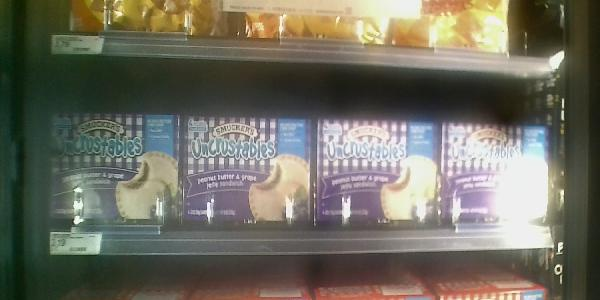icecream: (47, 105, 183, 243), (183, 113, 313, 242), (317, 112, 447, 228), (444, 112, 560, 241)
